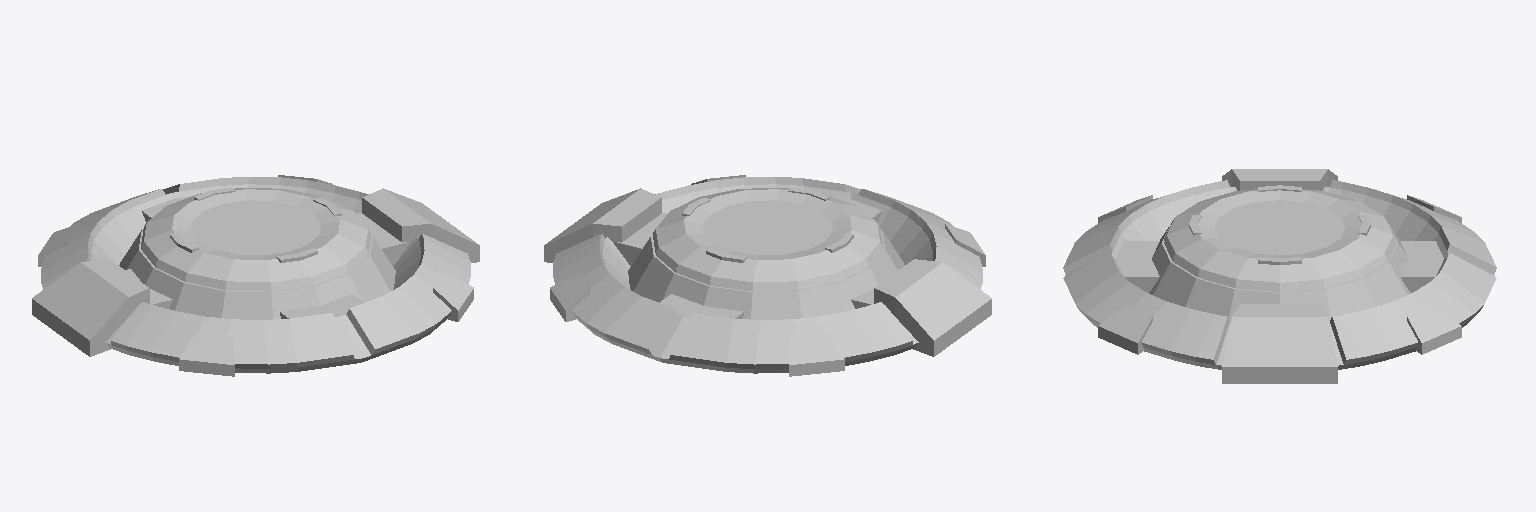
The model's file is Turret_Cannon_Base_Cylinder_001.obj.
The picture shows the model from 3 angles: view 1: azimuth 30°, elevation 25°; view 2: azimuth 150°, elevation 25°; view 3: azimuth 270°, elevation 25°; orthographic projection.
Parts seen in each view (by area): view 1: Turret_Cannon_Base_Cylinder.001; view 2: Turret_Cannon_Base_Cylinder.001; view 3: Turret_Cannon_Base_Cylinder.001.
Boxes of the visible parts, x1=… form: Turret_Cannon_Base_Cylinder.001: x1=32, y1=175, x2=479, y2=376; Turret_Cannon_Base_Cylinder.001: x1=544, y1=175, x2=991, y2=376; Turret_Cannon_Base_Cylinder.001: x1=1063, y1=169, x2=1496, y2=383.
Size of the model in its own units: 1.16 by 0.1832 by 1.11.